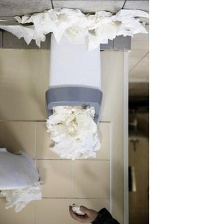tissue: (0, 3, 149, 54), (42, 100, 104, 164), (0, 179, 45, 216), (67, 202, 90, 218)
